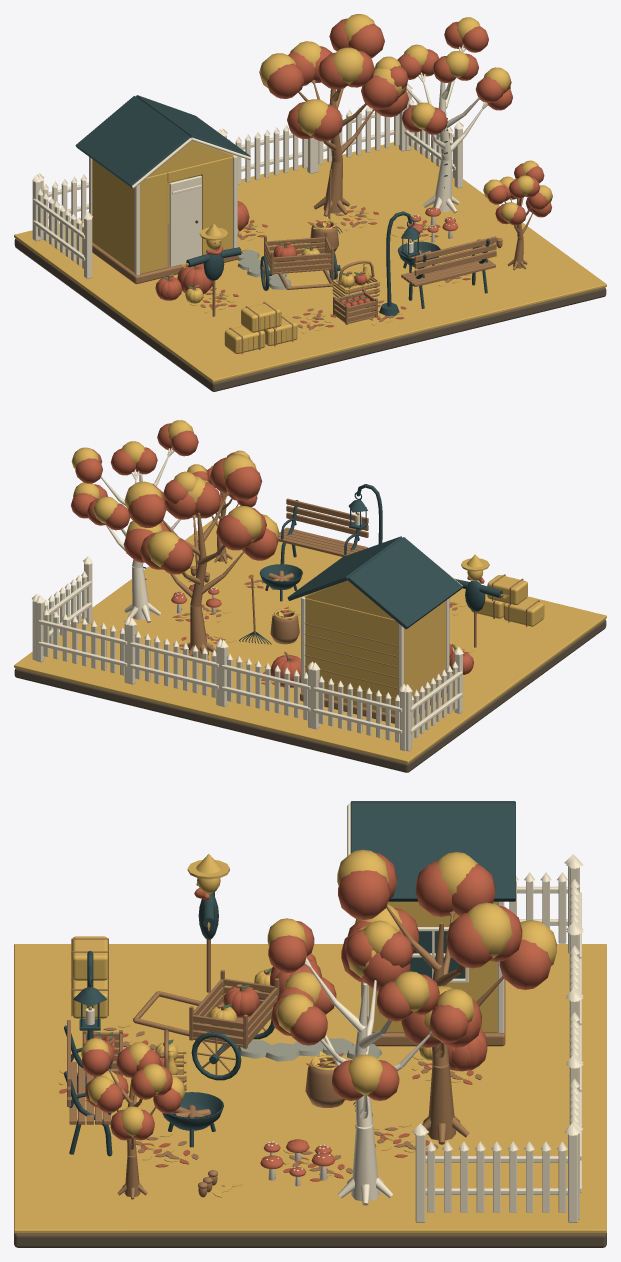
Rendered from almanac-gardens-autumn-garden-scene-53fc06cd__22099.glb.
The picture shows the model from 3 angles, top to bottom: view 1: azimuth 30°, elevation 25°; view 2: azimuth 150°, elevation 25°; view 3: azimuth 270°, elevation 25°; orthographic projection. The views are drawn at different scales.
Visible parts, largest first — view 1: 000-autumn-ground/autumn-ground-gold, 007-potting-shed/potting-shed-sage, 007-potting-shed/potting-shed-iron, 008-golden-orchard-tree/golden-orchard-tree-clay, 000-autumn-ground/autumn-ground-soil, 007-potting-shed/potting-shed-ivory, 009-autumn-birch/autumn-birch-clay, 008-golden-orchard-tree/golden-orchard-tree-gold, 005-picket-fence/picket-fence-ivory, 015-garden-bench/garden-bench-oak, 003-picket-fence/picket-fence-ivory, 013-hay-stack/hay-stack-gold (+22 smaller); view 2: 000-autumn-ground/autumn-ground-gold, 007-potting-shed/potting-shed-sage, 007-potting-shed/potting-shed-iron, 008-golden-orchard-tree/golden-orchard-tree-clay, 000-autumn-ground/autumn-ground-soil, 009-autumn-birch/autumn-birch-clay, 001-picket-fence/picket-fence-ivory, 004-picket-fence/picket-fence-ivory, 002-picket-fence/picket-fence-ivory, 003-picket-fence/picket-fence-ivory, 008-golden-orchard-tree/golden-orchard-tree-gold, 005-picket-fence/picket-fence-ivory (+15 smaller); view 3: 000-autumn-ground/autumn-ground-gold, 008-golden-orchard-tree/golden-orchard-tree-clay, 007-potting-shed/potting-shed-iron, 009-autumn-birch/autumn-birch-clay, 000-autumn-ground/autumn-ground-soil, 006-picket-fence/picket-fence-ivory, 009-autumn-birch/autumn-birch-gold, 008-golden-orchard-tree/golden-orchard-tree-gold, 009-autumn-birch/autumn-birch-ivory, 011-harvest-cart/harvest-cart-oak, 010-maple-sapling/maple-sapling-clay, 008-golden-orchard-tree/golden-orchard-tree-bark (+24 smaller).
Part boxes in pixels (bbox=[...]): 000-autumn-ground/autumn-ground-gold: bbox=[14, 142, 606, 382]; 007-potting-shed/potting-shed-sage: bbox=[92, 141, 233, 274]; 007-potting-shed/potting-shed-iron: bbox=[75, 95, 250, 223]; 008-golden-orchard-tree/golden-orchard-tree-clay: bbox=[259, 18, 408, 141]; 000-autumn-ground/autumn-ground-soil: bbox=[14, 238, 606, 391]; 007-potting-shed/potting-shed-ivory: bbox=[89, 137, 250, 275]; 009-autumn-birch/autumn-birch-clay: bbox=[389, 21, 512, 134]; 008-golden-orchard-tree/golden-orchard-tree-gold: bbox=[259, 14, 406, 136]; 005-picket-fence/picket-fence-ivory: bbox=[32, 174, 92, 278]; 015-garden-bench/garden-bench-oak: bbox=[401, 236, 496, 286]; 003-picket-fence/picket-fence-ivory: bbox=[221, 125, 315, 184]; 013-hay-stack/hay-stack-gold: bbox=[224, 302, 297, 353]; 000-autumn-ground/autumn-ground-gold: bbox=[14, 520, 606, 763]; 007-potting-shed/potting-shed-sage: bbox=[305, 580, 445, 714]; 007-potting-shed/potting-shed-iron: bbox=[287, 536, 462, 629]; 008-golden-orchard-tree/golden-orchard-tree-clay: bbox=[123, 457, 278, 574]; 000-autumn-ground/autumn-ground-soil: bbox=[14, 619, 606, 772]; 009-autumn-birch/autumn-birch-clay: bbox=[71, 423, 198, 530]; 001-picket-fence/picket-fence-ivory: bbox=[311, 662, 405, 750]; 004-picket-fence/picket-fence-ivory: bbox=[36, 595, 130, 683]; 002-picket-fence/picket-fence-ivory: bbox=[220, 640, 313, 728]; 003-picket-fence/picket-fence-ivory: bbox=[128, 617, 221, 706]; 008-golden-orchard-tree/golden-orchard-tree-gold: bbox=[124, 454, 279, 567]; 005-picket-fence/picket-fence-ivory: bbox=[404, 647, 463, 751]; 000-autumn-ground/autumn-ground-gold: bbox=[14, 944, 606, 1233]; 008-golden-orchard-tree/golden-orchard-tree-clay: bbox=[338, 852, 551, 1047]; 007-potting-shed/potting-shed-iron: bbox=[350, 801, 515, 901]; 009-autumn-birch/autumn-birch-clay: bbox=[268, 921, 468, 1100]; 000-autumn-ground/autumn-ground-soil: bbox=[14, 1233, 606, 1247]; 006-picket-fence/picket-fence-ivory: bbox=[412, 1123, 581, 1222]; 009-autumn-birch/autumn-birch-gold: bbox=[267, 918, 474, 1095]; 008-golden-orchard-tree/golden-orchard-tree-gold: bbox=[337, 849, 556, 1041]; 009-autumn-birch/autumn-birch-ivory: bbox=[304, 957, 432, 1205]; 011-harvest-cart/harvest-cart-oak: bbox=[133, 970, 279, 1076]; 010-maple-sapling/maple-sapling-clay: bbox=[82, 1039, 181, 1140]; 008-golden-orchard-tree/golden-orchard-tree-bark: bbox=[386, 904, 503, 1144].
Size of the model in its own units: 8.41 by 3.82 by 7.
